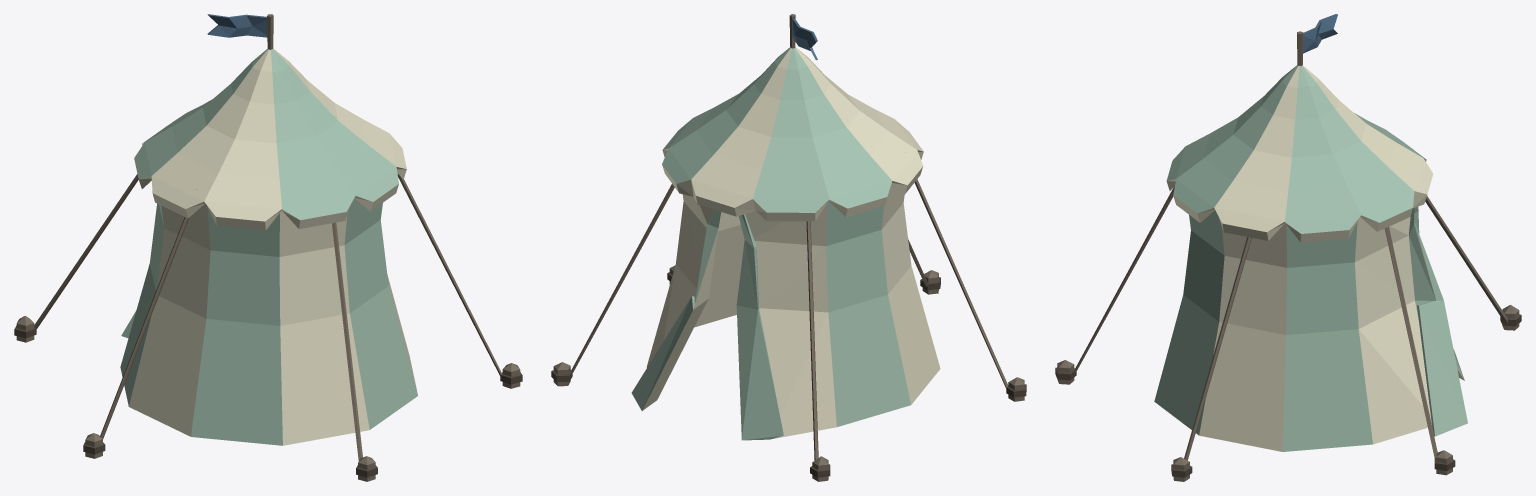
The model's file is Tent_02.glb.
3 renders of one model, left to right at view 1: azimuth 30°, elevation 25°; view 2: azimuth 150°, elevation 25°; view 3: azimuth 270°, elevation 25°, orthographic. The views are drawn at different scales.
Parts seen in each view (by area): view 1: tent_2; view 2: tent_2; view 3: tent_2.
Boxes of the visible parts, x1=… form: tent_2: x1=14, y1=14, x2=522, y2=481; tent_2: x1=551, y1=14, x2=1026, y2=481; tent_2: x1=1055, y1=14, x2=1521, y2=481.
Size of the model in its own units: 6.18 by 5.43 by 6.32.
Materials: 1 (1 with a texture image).
